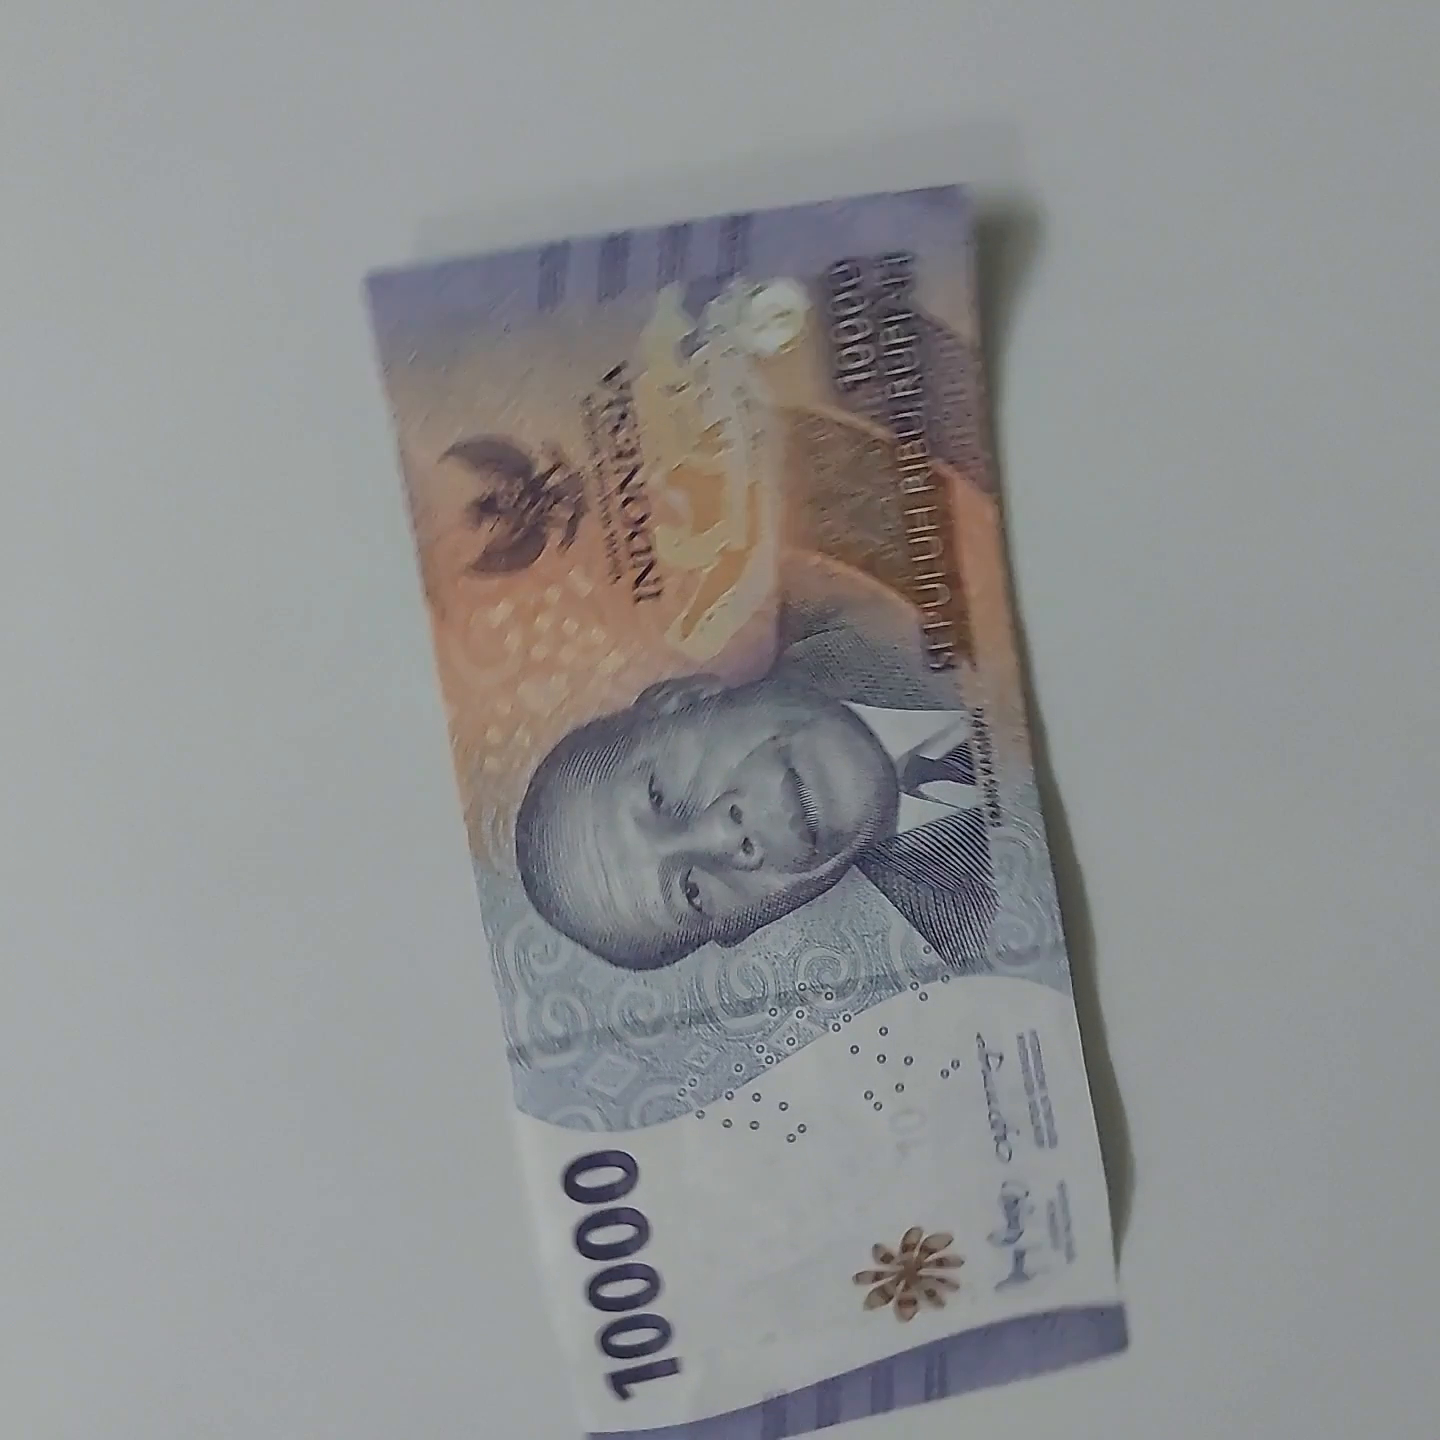10k: (338, 170, 1130, 1440)
